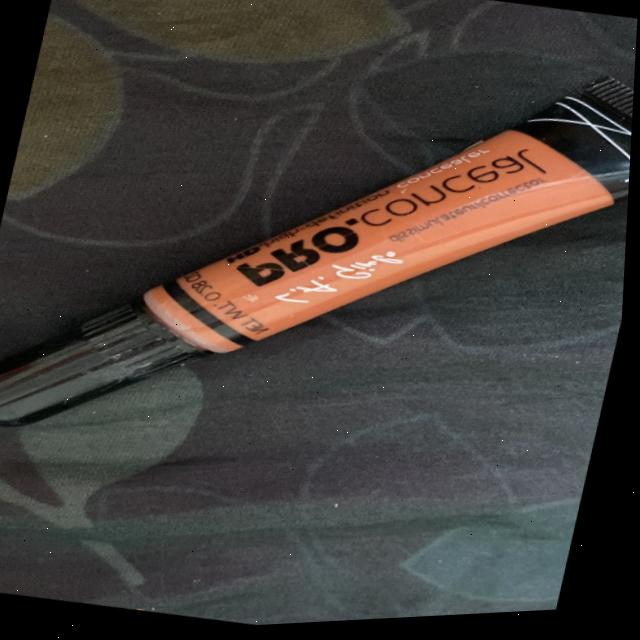concealer: (0, 0, 640, 543)
